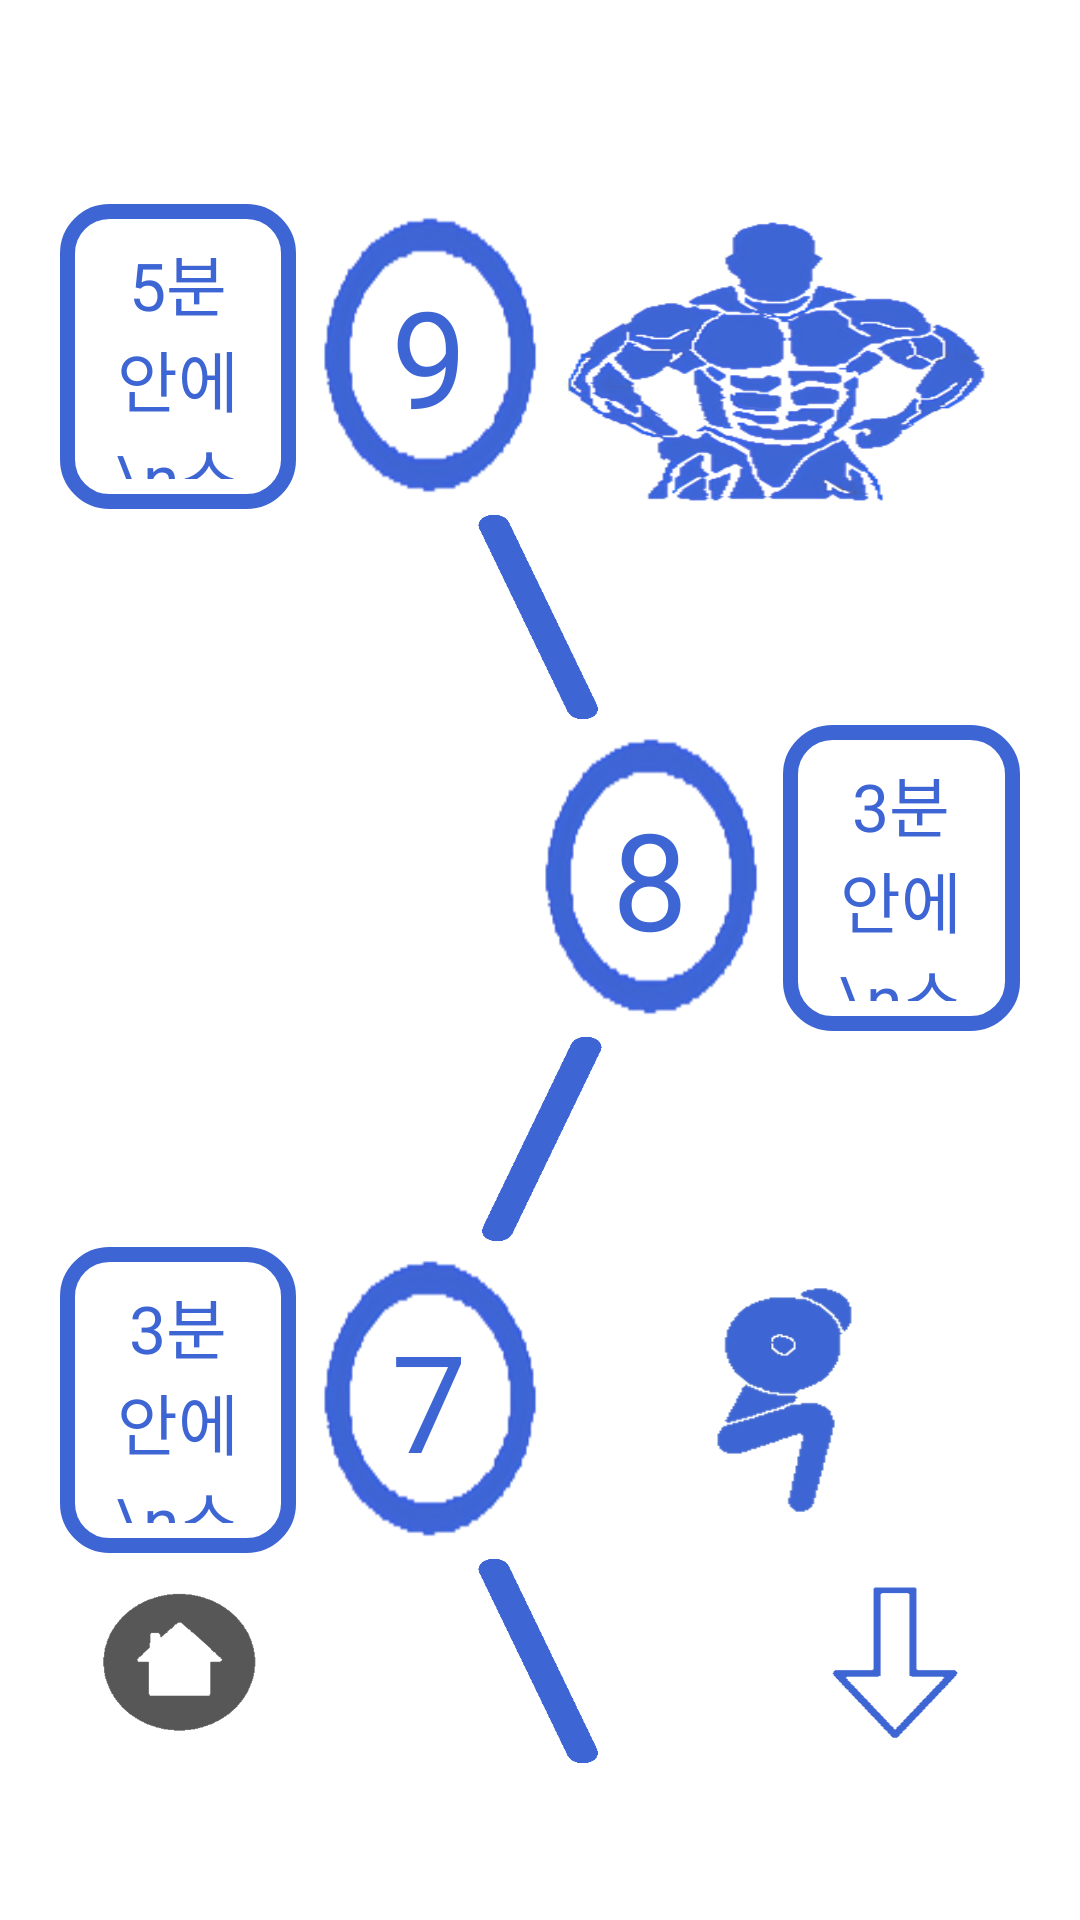

Named icons in this screenshot (1080×1920) and their bounding boxes, (x1, y1, x2, y2):
down: (832, 1587, 958, 1738)
home: (103, 1594, 256, 1731)
